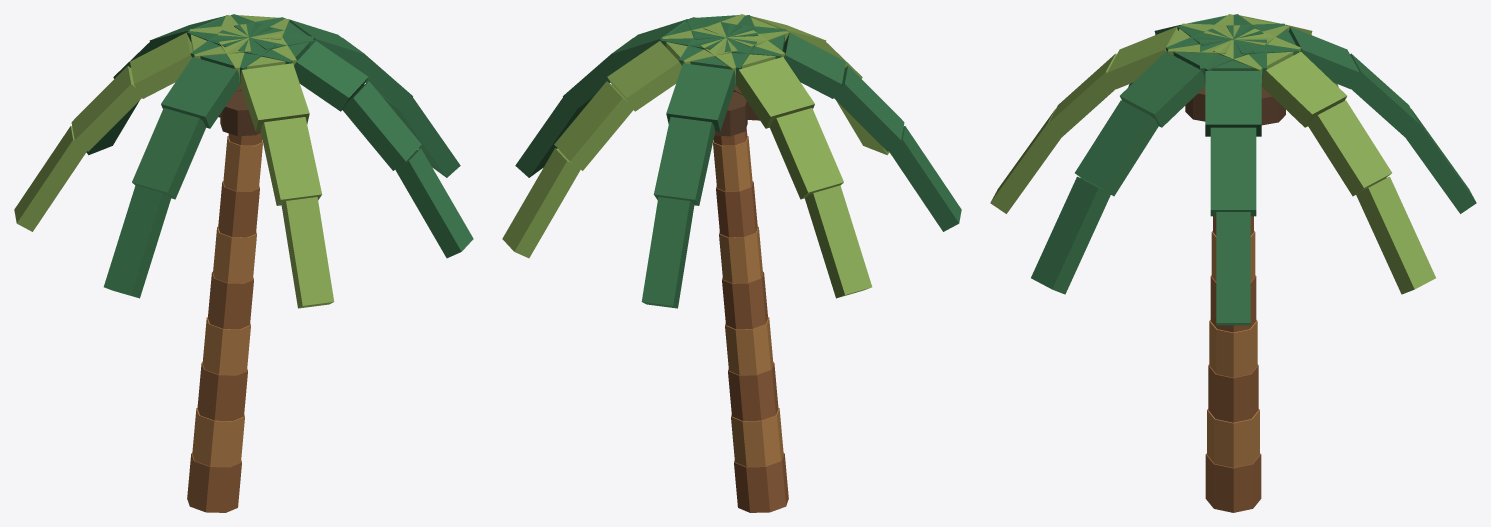
The model's file is island_palm.glb.
3 views of the same model, side by side, from view 1: azimuth 30°, elevation 25°; view 2: azimuth 150°, elevation 25°; view 3: azimuth 270°, elevation 25° (orthographic). The views are drawn at different scales.
Parts seen in each view (by area): view 1: body__green.003, body__leaf2.003, body__wood.007, body__wood2.009, body__wood_dark.009; view 2: body__green.003, body__leaf2.003, body__wood.007, body__wood2.009, body__wood_dark.009; view 3: body__green.003, body__leaf2.003, body__wood.007, body__wood2.009, body__wood_dark.009.
Boxes of the visible parts, box(x1,y1,x2,y2) form: body__green.003: box(86, 14, 473, 298); body__leaf2.003: box(14, 15, 334, 308); body__wood.007: box(187, 133, 262, 512); body__wood2.009: box(192, 136, 262, 466); body__wood_dark.009: box(218, 85, 260, 136); body__green.003: box(515, 15, 961, 308); body__leaf2.003: box(502, 14, 889, 298); body__wood.007: box(713, 127, 788, 512); body__wood2.009: box(713, 136, 783, 466); body__wood_dark.009: box(714, 85, 759, 136); body__green.003: box(1031, 14, 1476, 325); body__leaf2.003: box(990, 14, 1435, 294); body__wood.007: box(1205, 216, 1261, 512); body__wood2.009: box(1207, 231, 1259, 467); body__wood_dark.009: box(1185, 87, 1285, 125).
Size of the model in its own units: 3.12 by 3.49 by 3.2.
